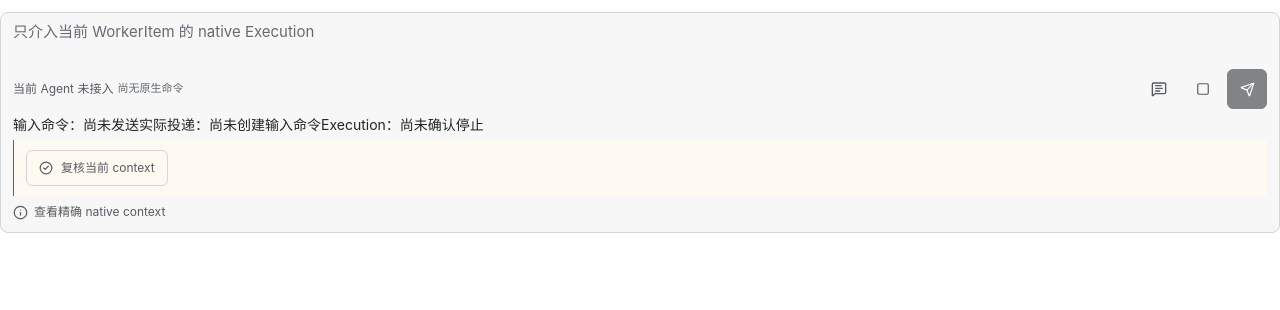
Test: NativeWorkerComposer › keeps Send behind explicit review and shows command and delivery states separately
Expected: the button named "发送到当前 Session" is disabled, [1227,69,1267,109]
Type "inspect current state" into the text box named "介入这个 Worker".
click(640, 43); type("inspect current state")  # box [13,21,1267,65]
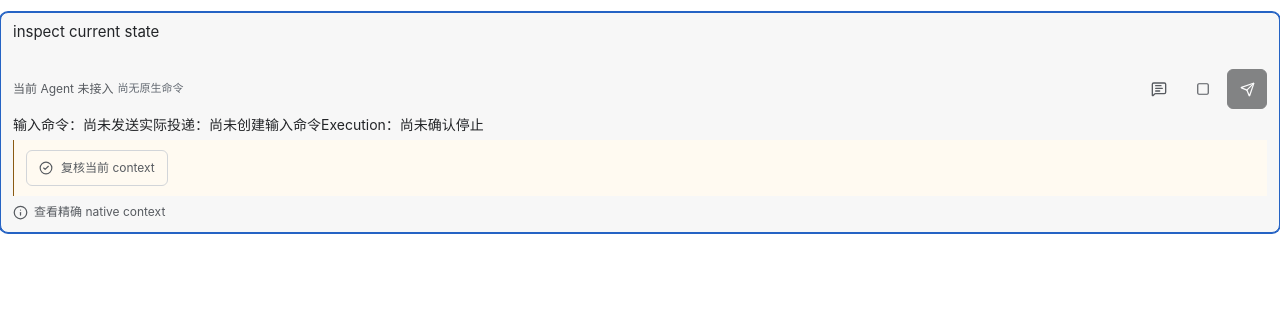
Click the button "复核当前 context".
click(97, 168)  # box [26,150,168,186]
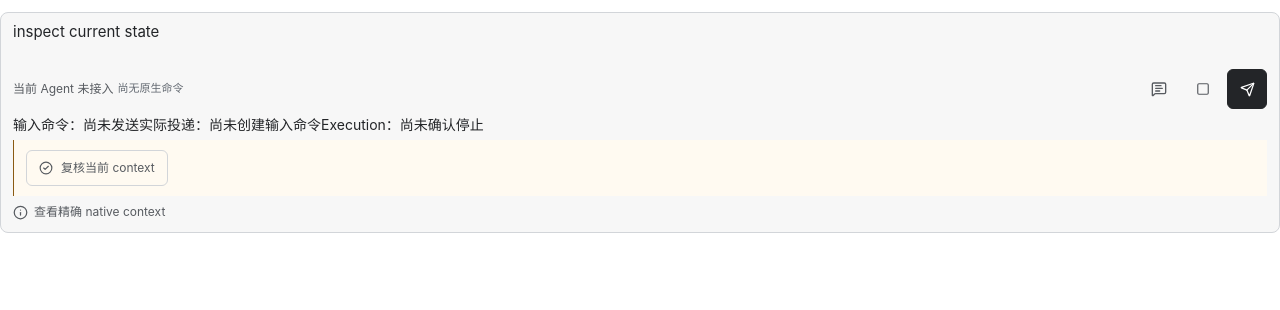
Expected: the button named "发送到当前 Session" is enabled
Click the button named "发送到当前 Session".
click(1247, 89)  # box [1227,69,1267,109]
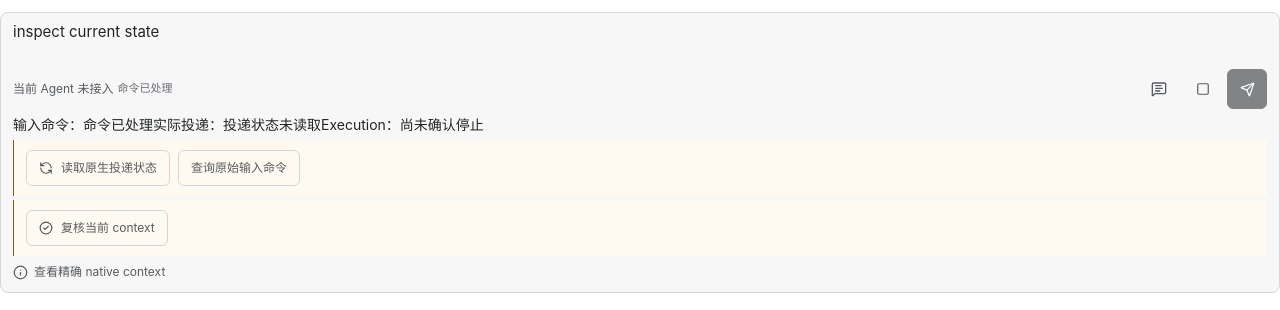
Expected: the message reads "命令已处理", [117,83,172,95]
Expected: the element named "原生操作状态" shows "实际投递：投递状态未读取", [13,116,484,133]
Click the button "读取原生投递状态".
click(98, 168)  # box [26,150,170,186]
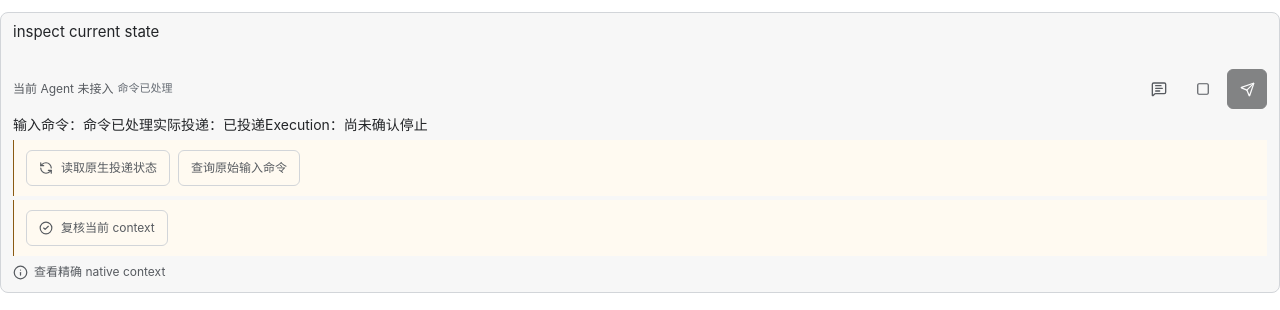
Expected: the element named "原生操作状态" shows "实际投递：已投递", [13,116,428,133]
